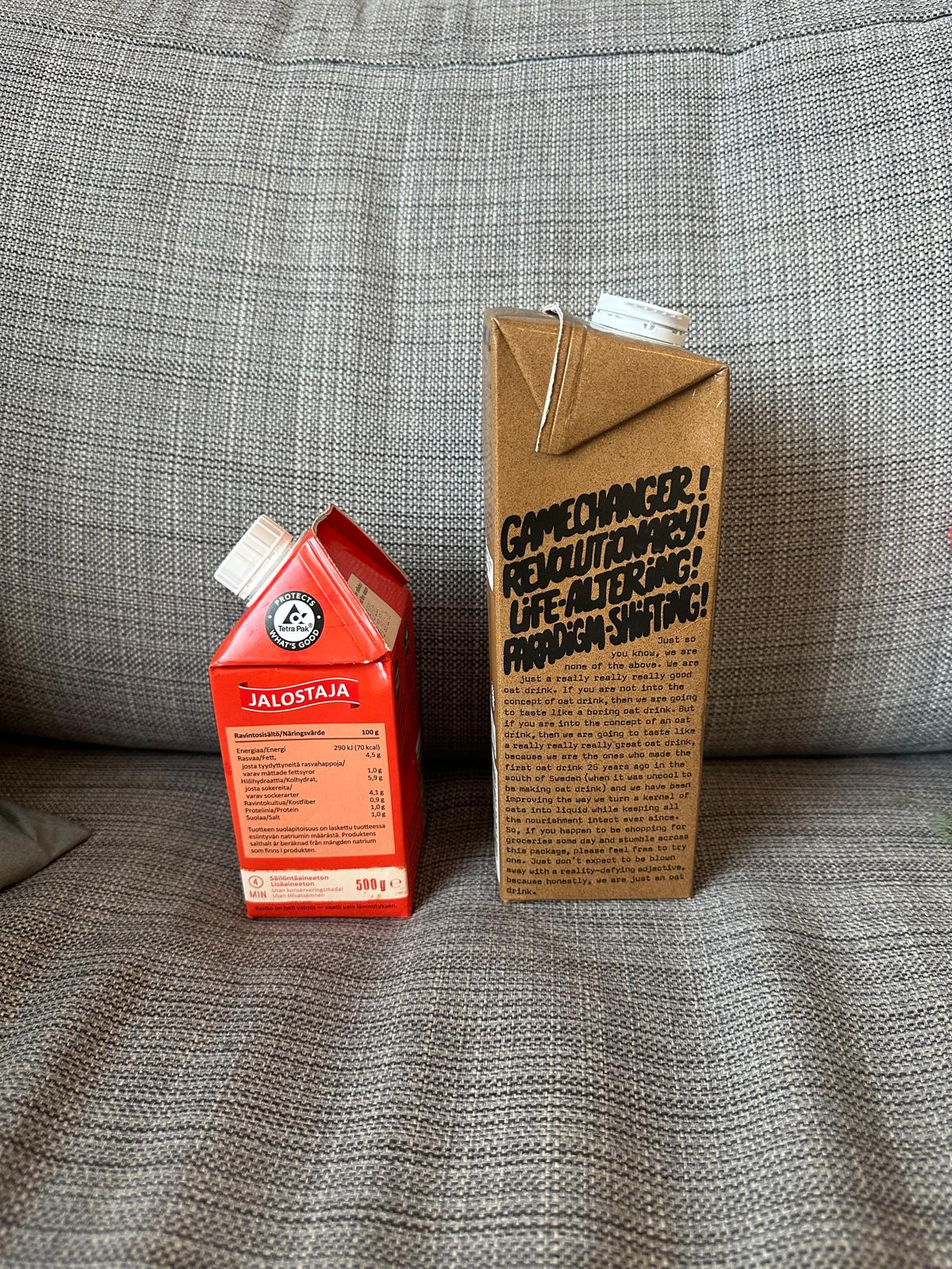Dryckeskartong: (481, 293, 730, 903), (208, 504, 430, 920)
